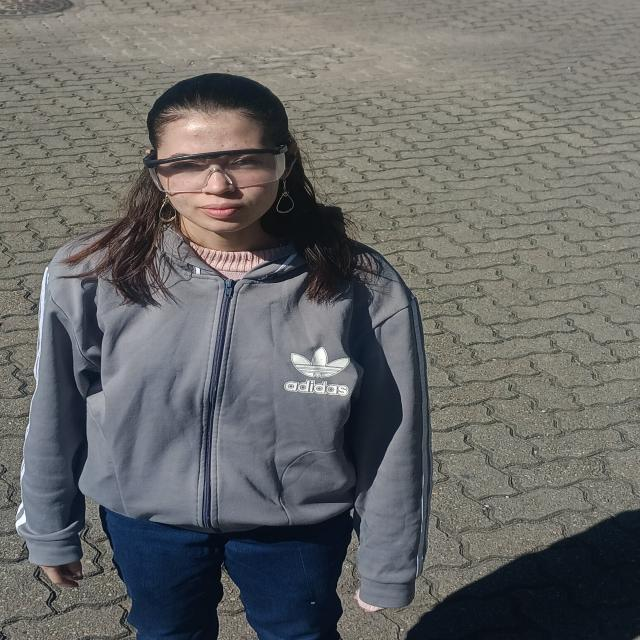oculos-epi: (143, 145, 288, 192)
